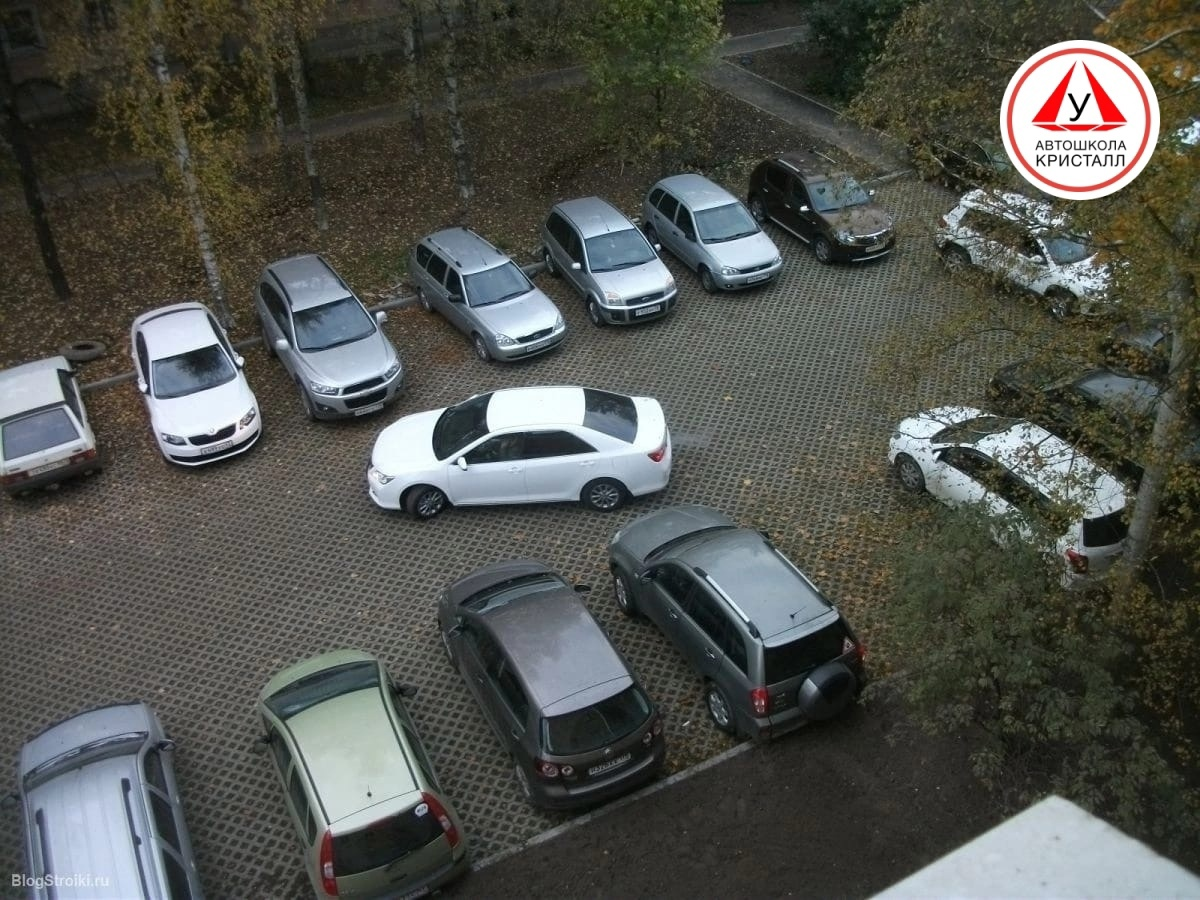Car: (608, 506, 865, 740), (437, 561, 665, 811), (259, 650, 469, 900), (886, 405, 1132, 589), (366, 385, 673, 520), (17, 702, 205, 900), (984, 354, 1200, 518), (935, 189, 1140, 317), (255, 254, 404, 421), (130, 302, 263, 467), (411, 227, 567, 363), (542, 197, 678, 326), (643, 174, 784, 293), (747, 153, 895, 264), (0, 356, 102, 496), (907, 124, 1060, 203), (1100, 312, 1173, 388)
